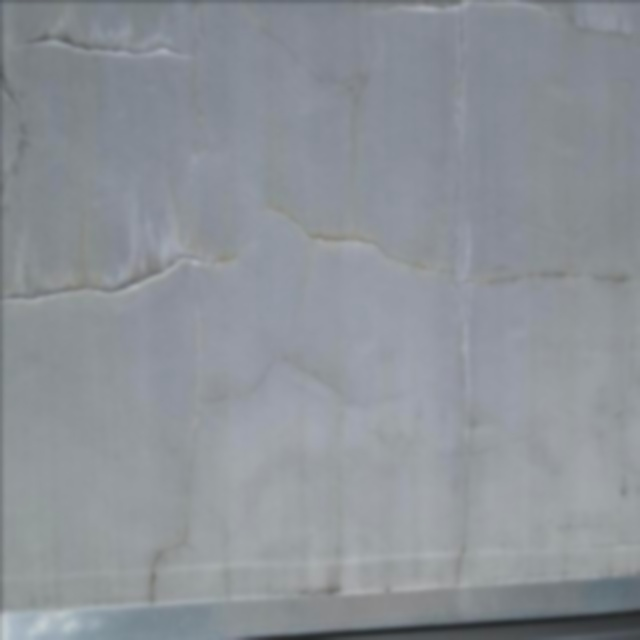SurfaceCrack: (2, 190, 474, 341), (0, 2, 194, 96)
